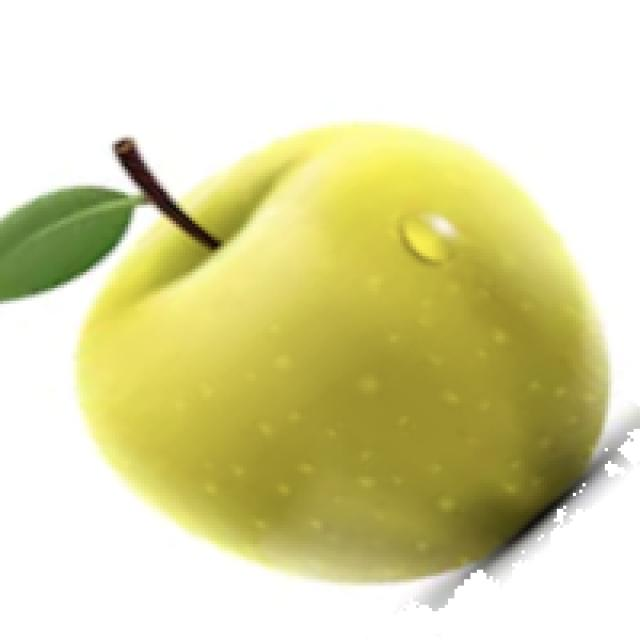apple: (0, 118, 637, 611)
